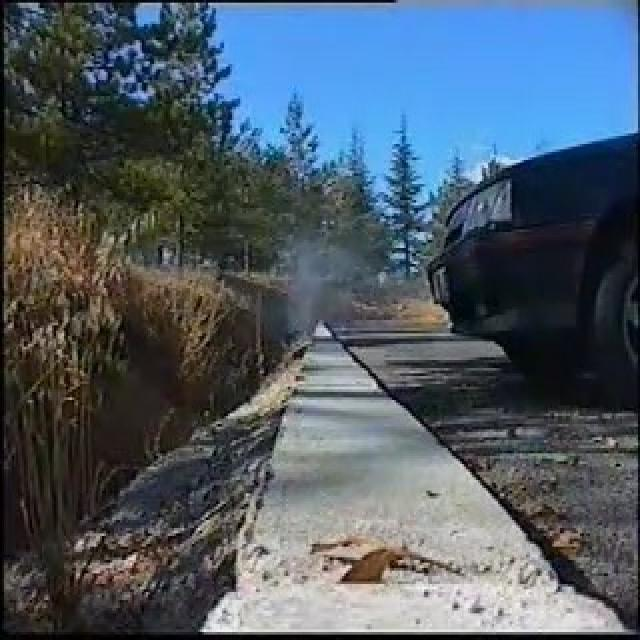smoke: (287, 242, 342, 336)
